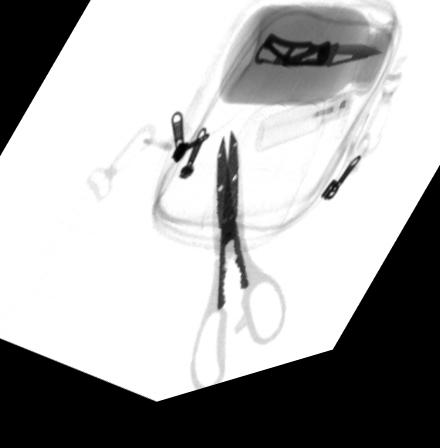Knife: (254, 48, 385, 86)
Scissors: (189, 146, 289, 402)
